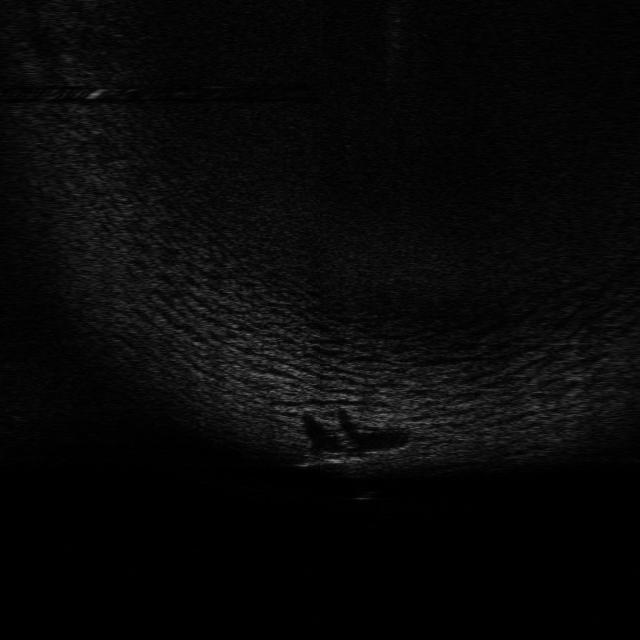plane: (290, 450, 386, 472)
